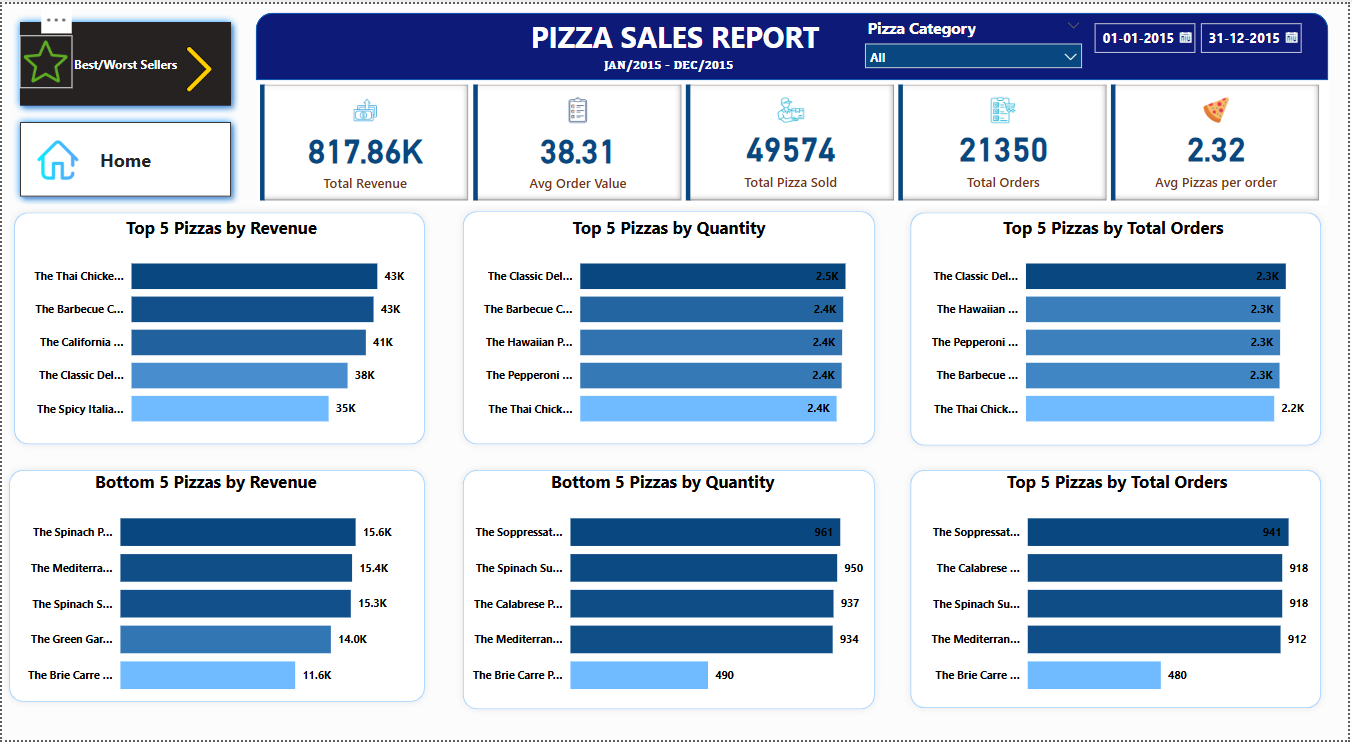

This screenshot's page, from the dashboard's own definition file:
{"tool":"powerbi","page":{"name":"Best/Worst Sellers","canvas":[1500,820],"ordinal":1},"visuals":[{"type":"cardVisual","fields":{"Data":["pizza_sales.Total Revenue","pizza_sales.Avg Order Value","pizza_sales.Total Pizza Sold","pizza_sales.Total Orders","pizza_sales.Avg Pizzas per order"]},"box":[282.7,85,1194.9,139.3],"z":0},{"type":"shape","box":[282.7,9.7,1194.9,75.2],"z":1000},{"type":"textbox","box":[548.7,344,402.5,50.1],"z":2000},{"type":"textbox","box":[568.2,9.7,363.5,54.3],"z":3000},{"type":"textbox","box":[665.7,52.9,169.9,32],"z":4000},{"type":"shape","box":[5.6,224.2,473.5,274.4],"z":5000},{"type":"slicer","fields":{"Values":["pizza_sales.pizza_category"]},"box":[951.2,9.7,261.8,73.8],"z":7000},{"type":"slicer","fields":{"Values":["pizza_sales.order_date"]},"box":[1204.7,11.1,261.8,72.4],"z":8000},{"type":"shape","box":[1004.1,224.2,473.5,275.7],"z":9000},{"type":"shape","box":[505.5,222.8,474.9,275.7],"z":10000},{"type":"shape","box":[0,511.1,479.1,274.4],"z":11000},{"type":"shape","box":[505.5,511.1,474.9,282.7],"z":12000},{"type":"shape","box":[1004.1,511.1,473.5,281.3],"z":13000},{"type":"barChart","title":"Top 5 Pizzas by Revenue","fields":{"Category":["pizza_sales.pizza_name"],"Y":["pizza_sales.Total Revenue"]},"box":[19.5,236.8,449.8,249.3],"z":14000},{"type":"barChart","title":"Bottom 5 Pizzas by Revenue","fields":{"Category":["pizza_sales.pizza_name"],"Y":["pizza_sales.Total Revenue"]},"box":[11.1,519.5,431.7,266],"z":15000},{"type":"barChart","title":"Top 5 Pizzas by Quantity","fields":{"Category":["pizza_sales.pizza_name"],"Y":["pizza_sales.Total Pizza Sold"]},"box":[519.5,236.8,447,249.3],"z":16000},{"type":"barChart","title":"Bottom 5 Pizzas by Quantity","fields":{"Category":["pizza_sales.pizza_name"],"Y":["pizza_sales.Total Pizza Sold"]},"box":[505.5,519.5,461,266],"z":17000},{"type":"barChart","title":"Top 5 Pizzas by Total Orders","fields":{"Category":["pizza_sales.pizza_name"],"Y":["pizza_sales.Total Orders"]},"box":[1018,236.8,440.1,249.3],"z":18000},{"type":"barChart","title":"Top 5 Pizzas by Total Orders","fields":{"Category":["pizza_sales.pizza_name"],"Y":["pizza_sales.Total Orders"]},"box":[1018,519.5,448.4,266],"z":19000},{"type":"pageNavigator","box":[11.1,11.1,253.5,111.4],"z":20000},{"type":"pageNavigator","box":[11.1,122.6,253.5,101.7],"z":21000},{"type":"image","box":[189.4,39,61.3,66.8],"z":22000},{"type":"image","box":[30.6,146.2,62.7,55.7],"z":23000},{"type":"image","box":[19.5,34.8,58.5,58.5],"z":24000}]}

Visuals, with their boxes in screenshot pixels (x1, y1, x2, y2), scaled from the page's 1500x820 canvas onto the 1352x742 screenshot:
cardVisual - pizza_sales.Total Revenue x pizza_sales.Avg Order Value: 255 77 1332 203
shape: 255 9 1332 77
textbox: 495 311 857 357
textbox: 512 9 840 58
textbox: 600 48 753 77
shape: 5 203 432 451
slicer - pizza_sales.pizza_category: 857 9 1093 76
slicer - pizza_sales.order_date: 1086 10 1322 76
shape: 905 203 1332 452
shape: 456 202 884 451
shape: 0 462 432 711
shape: 456 462 884 718
shape: 905 462 1332 717
"Top 5 Pizzas by Revenue" barChart: 18 214 423 440
"Bottom 5 Pizzas by Revenue" barChart: 10 470 399 711
"Top 5 Pizzas by Quantity" barChart: 468 214 871 440
"Bottom 5 Pizzas by Quantity" barChart: 456 470 871 711
"Top 5 Pizzas by Total Orders" barChart: 918 214 1314 440
"Top 5 Pizzas by Total Orders" barChart: 918 470 1322 711
pageNavigator: 10 10 238 111
pageNavigator: 10 111 238 203
image: 171 35 226 96
image: 28 132 84 183
image: 18 31 70 84
